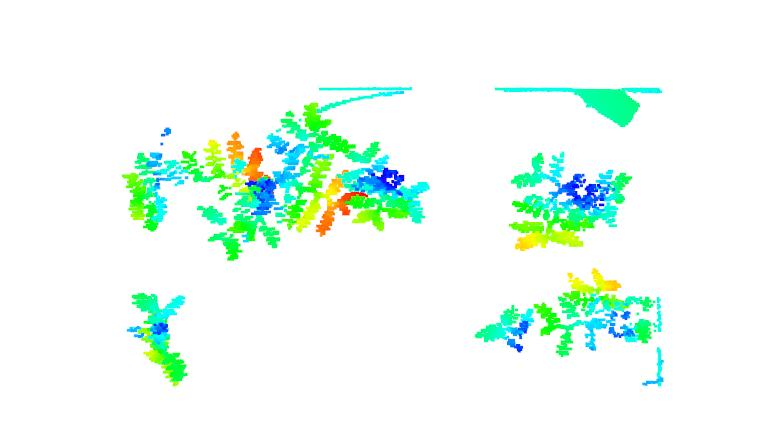chickpea: (271, 98, 360, 246), (507, 149, 631, 250), (196, 128, 284, 261), (541, 264, 656, 355), (126, 149, 214, 231), (122, 286, 190, 386), (344, 158, 436, 227), (471, 305, 537, 354)
